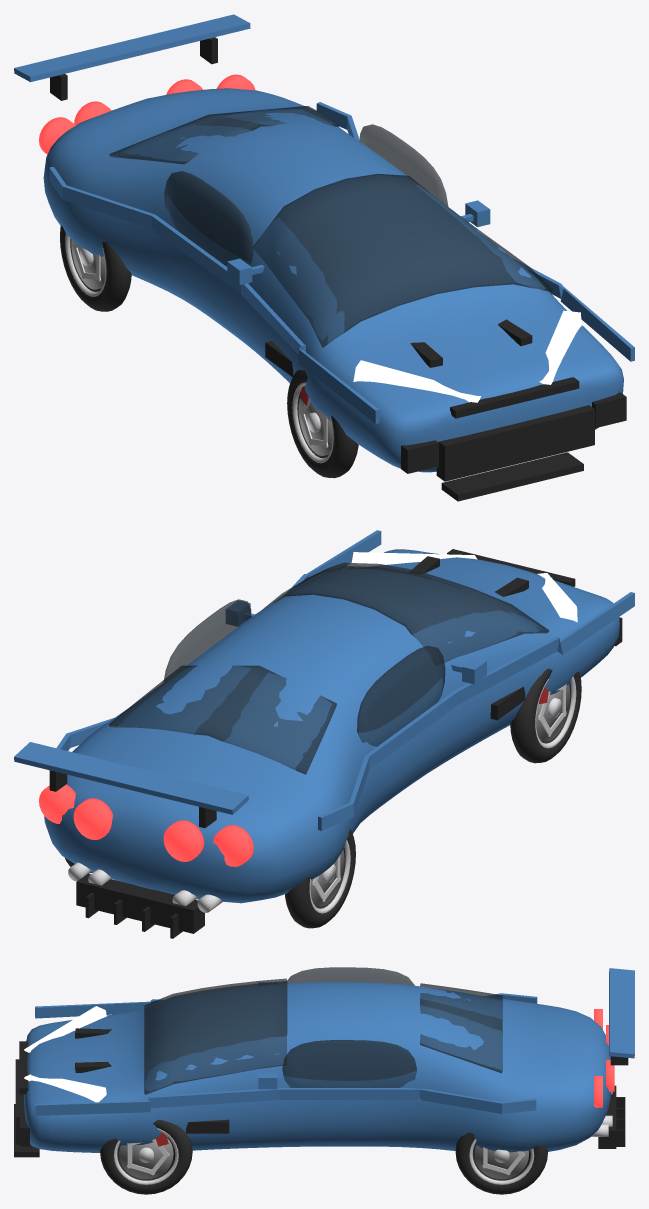
The model's file is nissan_gt-r_r35_2017.glb.
3 renders of one model, top to bottom at view 1: azimuth 30°, elevation 25°; view 2: azimuth 150°, elevation 25°; view 3: azimuth 270°, elevation 25°, orthographic. The views are drawn at different scales.
Parts seen in each view (by area): view 1: Body, Windscreen, Glass, FrontIntake, Shoulder_R, RearWing, GlassFastback, FrontSplitter, Shoulder_L, Tyre_FR, Tyre_RR, UpperGrille (+7 smaller); view 2: Body, Windscreen, GlassFastback, Glass, Shoulder_R, RearWing, Diffuser, Tyre_FR, Taillight_R, Taillight_L, Tyre_RR, Shoulder_L (+7 smaller); view 3: Body, Windscreen, Glass, Shoulder_L, GlassFastback, Tyre_FL, RearWing, Tyre_RL, Shoulder_R, BrakeDisc_FL, BrakeDisc_RL, Headlight_L (+10 smaller).
Boxes of the visible parts, bbox=[...] form: Body: bbox=[43, 88, 623, 472]; Windscreen: bbox=[253, 173, 552, 347]; Glass: bbox=[164, 124, 448, 266]; FrontIntake: bbox=[436, 405, 594, 481]; Shoulder_R: bbox=[49, 167, 379, 423]; RearWing: bbox=[14, 14, 250, 82]; GlassFastback: bbox=[109, 106, 339, 164]; FrontSplitter: bbox=[441, 452, 583, 501]; Shoulder_L: bbox=[316, 102, 634, 361]; Tyre_FR: bbox=[287, 370, 358, 478]; Tyre_RR: bbox=[60, 225, 131, 311]; UpperGrille: bbox=[450, 377, 579, 418]; Body: bbox=[44, 549, 619, 903]; Windscreen: bbox=[262, 562, 549, 665]; GlassFastback: bbox=[109, 665, 336, 774]; Glass: bbox=[164, 599, 445, 746]; Shoulder_R: bbox=[318, 592, 634, 830]; RearWing: bbox=[14, 742, 248, 814]; Diffuser: bbox=[76, 873, 204, 933]; Tyre_FR: bbox=[510, 668, 581, 763]; Taillight_R: bbox=[163, 820, 253, 866]; Taillight_L: bbox=[39, 784, 112, 839]; Tyre_RR: bbox=[285, 829, 355, 928]; Shoulder_L: bbox=[56, 530, 381, 750]; Body: bbox=[24, 981, 611, 1152]; Windscreen: bbox=[144, 978, 287, 1094]; Glass: bbox=[282, 967, 416, 1087]; Shoulder_L: bbox=[35, 1088, 536, 1115]; GlassFastback: bbox=[420, 983, 502, 1073]; Tyre_FL: bbox=[100, 1119, 192, 1194]; RearWing: bbox=[609, 968, 634, 1058]; Tyre_RL: bbox=[455, 1132, 547, 1194]; Shoulder_R: bbox=[35, 993, 537, 1018]; BrakeDisc_FL: bbox=[119, 1139, 173, 1179]; BrakeDisc_RL: bbox=[474, 1145, 528, 1179]; Headlight_L: bbox=[24, 1074, 106, 1102].
Size of the model in its own units: 2.04 by 1.36 by 4.86.
